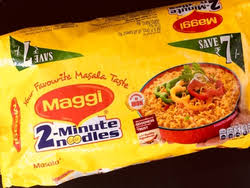maggi: (19, 18, 241, 157)
